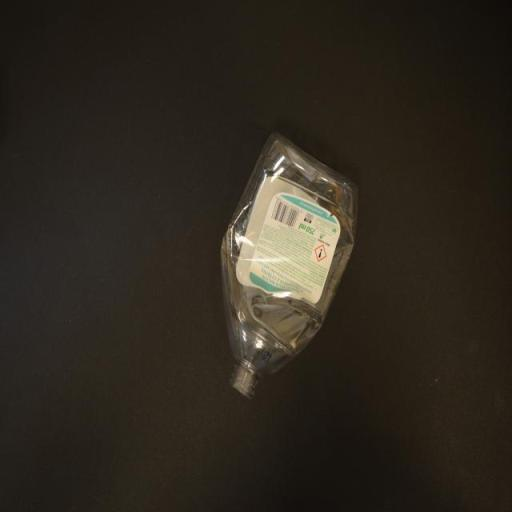plastic: (217, 131, 356, 402)
